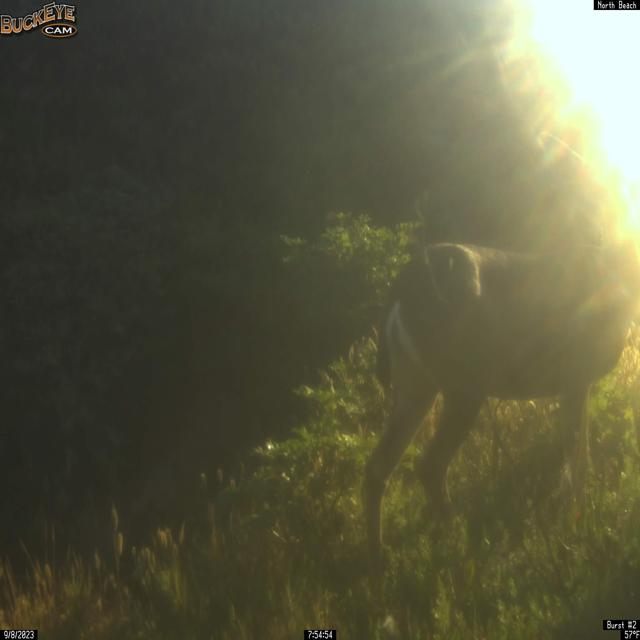deer: (362, 121, 640, 580)
